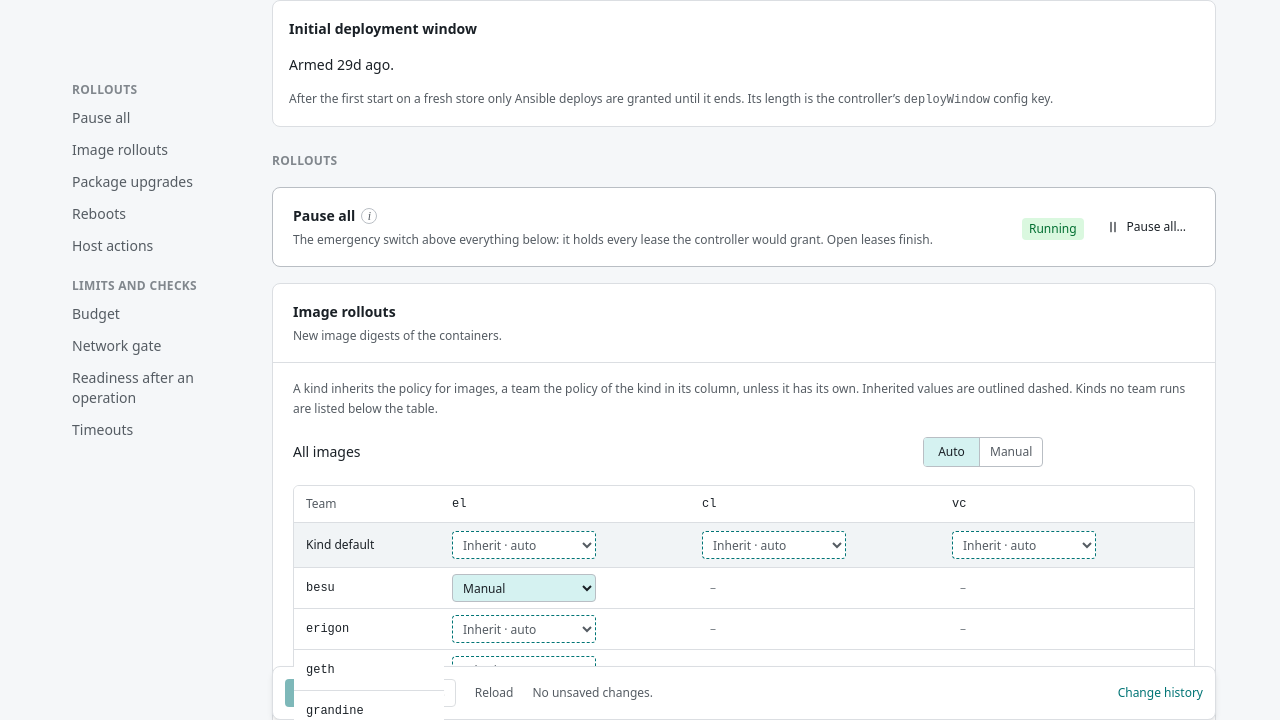
SettingsTab › pauses everything with the pause action, apart from the form
Click the button "Pause all…" at (1145, 227), box [1096, 213, 1195, 241]
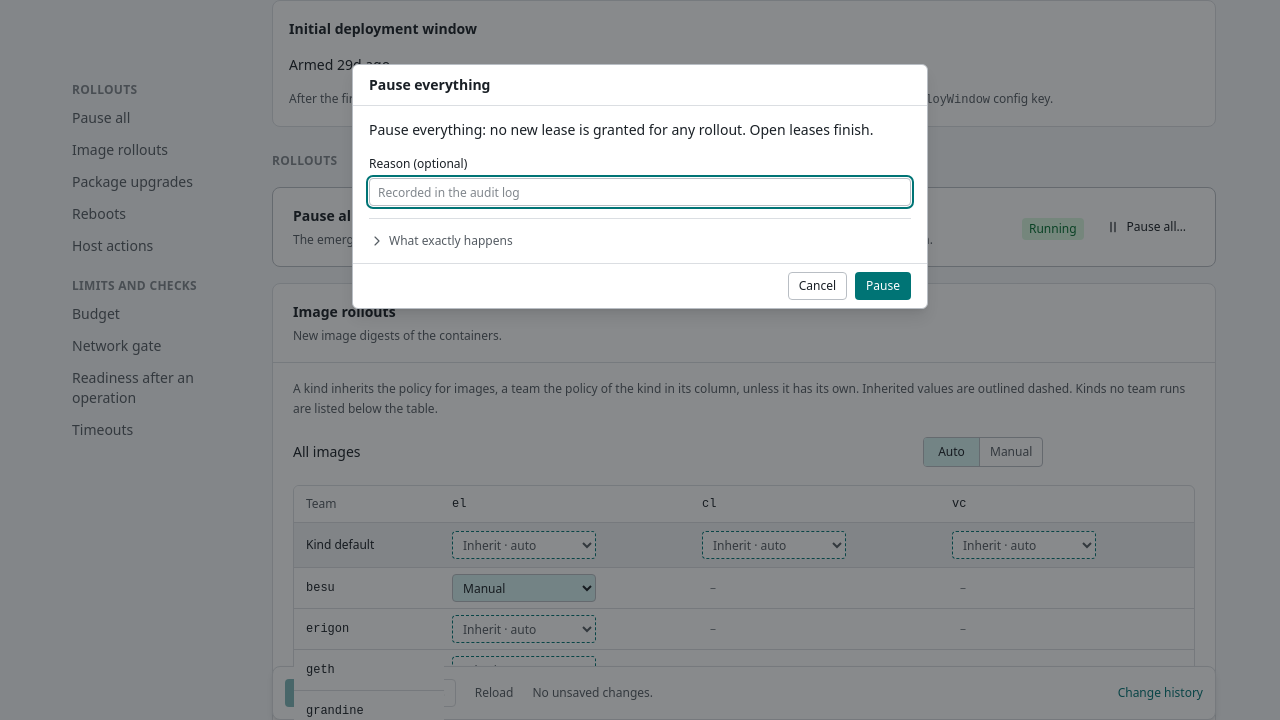
Click the button "Pause" at (883, 286), box [855, 272, 911, 300]
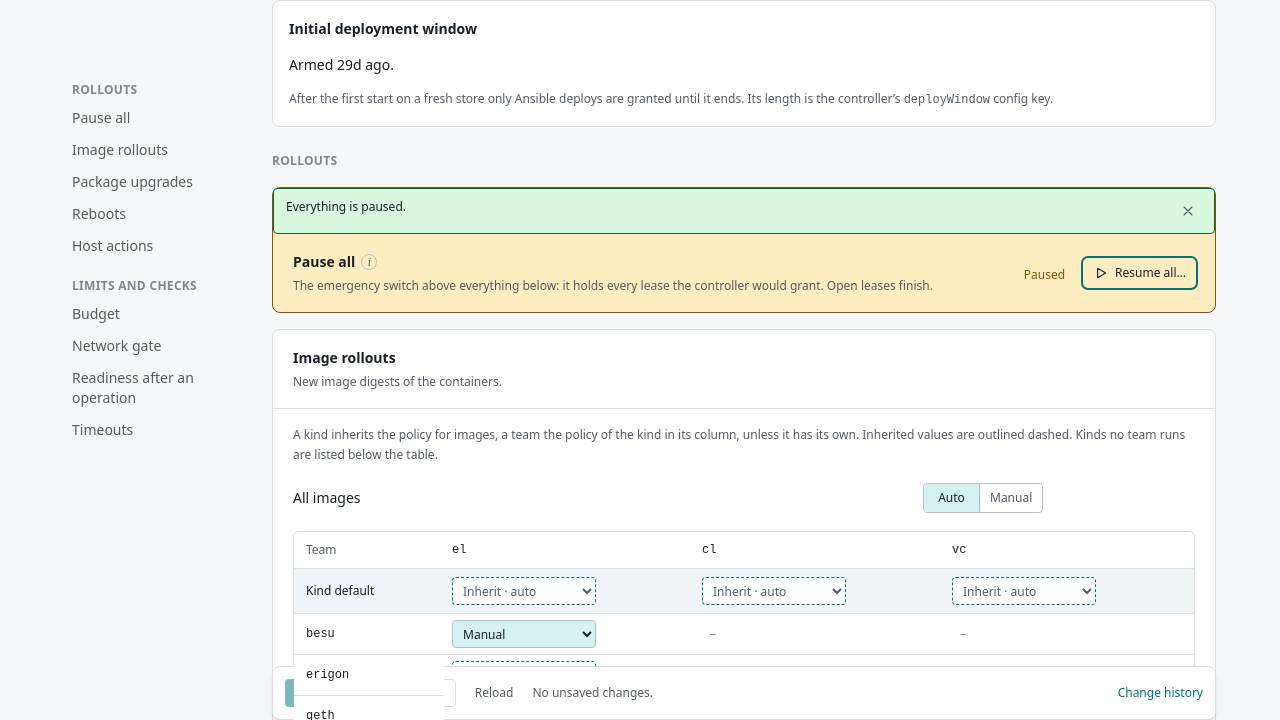
Check: the text "No unsaved changes." is shown, box [532, 683, 653, 703]
Check: the element named "Global pause state" reads "Paused", box [1024, 266, 1065, 282]
Check: the button "Resume all…" is shown, box [1084, 259, 1195, 287]
